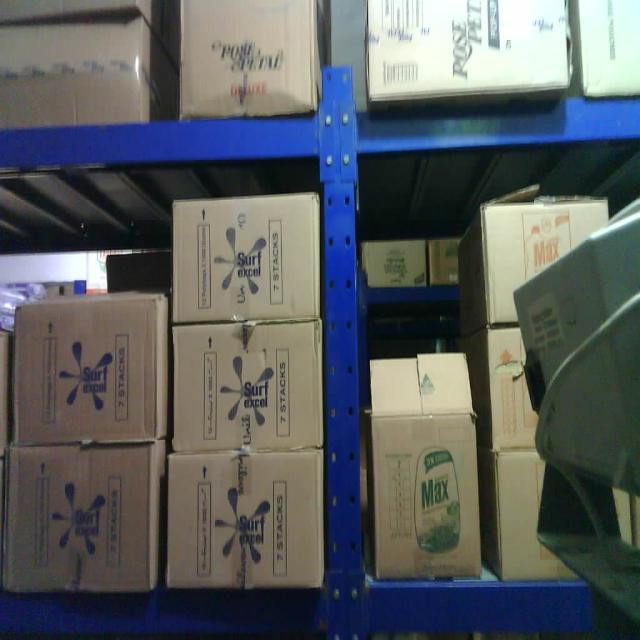box: (380, 362, 482, 582), (20, 293, 161, 443), (10, 448, 150, 597), (172, 457, 324, 592), (170, 197, 321, 323), (172, 327, 324, 452), (371, 3, 570, 88), (182, 0, 318, 117), (489, 200, 622, 313)
